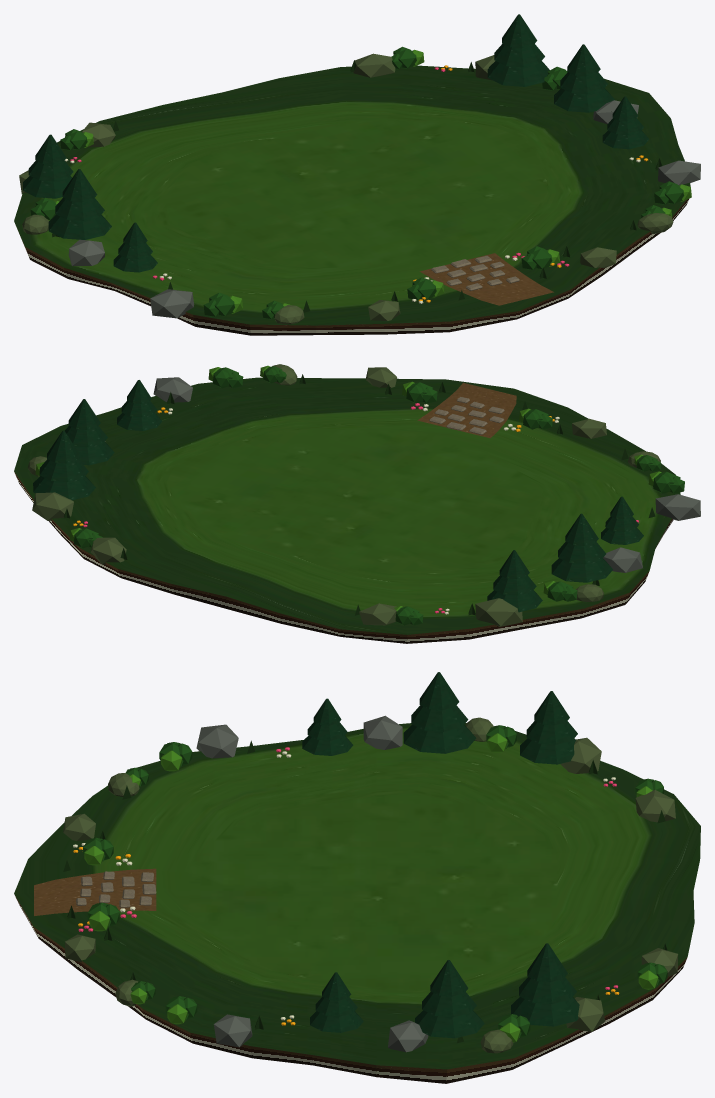
3 renders of one model, top to bottom at view 1: azimuth 30°, elevation 25°; view 2: azimuth 150°, elevation 25°; view 3: azimuth 270°, elevation 25°, orthographic. The views are drawn at different scales.
Visible parts, largest first — view 1: WK_Castle_LandscapeBase_LOD0_High; view 2: WK_Castle_LandscapeBase_LOD0_High; view 3: WK_Castle_LandscapeBase_LOD0_High.
Part boxes in pixels (bbox=[...]): WK_Castle_LandscapeBase_LOD0_High: bbox=[14, 14, 700, 335]; WK_Castle_LandscapeBase_LOD0_High: bbox=[14, 364, 700, 643]; WK_Castle_LandscapeBase_LOD0_High: bbox=[14, 672, 700, 1083].
Size of the model in its own units: 18.53 by 2.33 by 15.37.
1 material, 1 textured.
